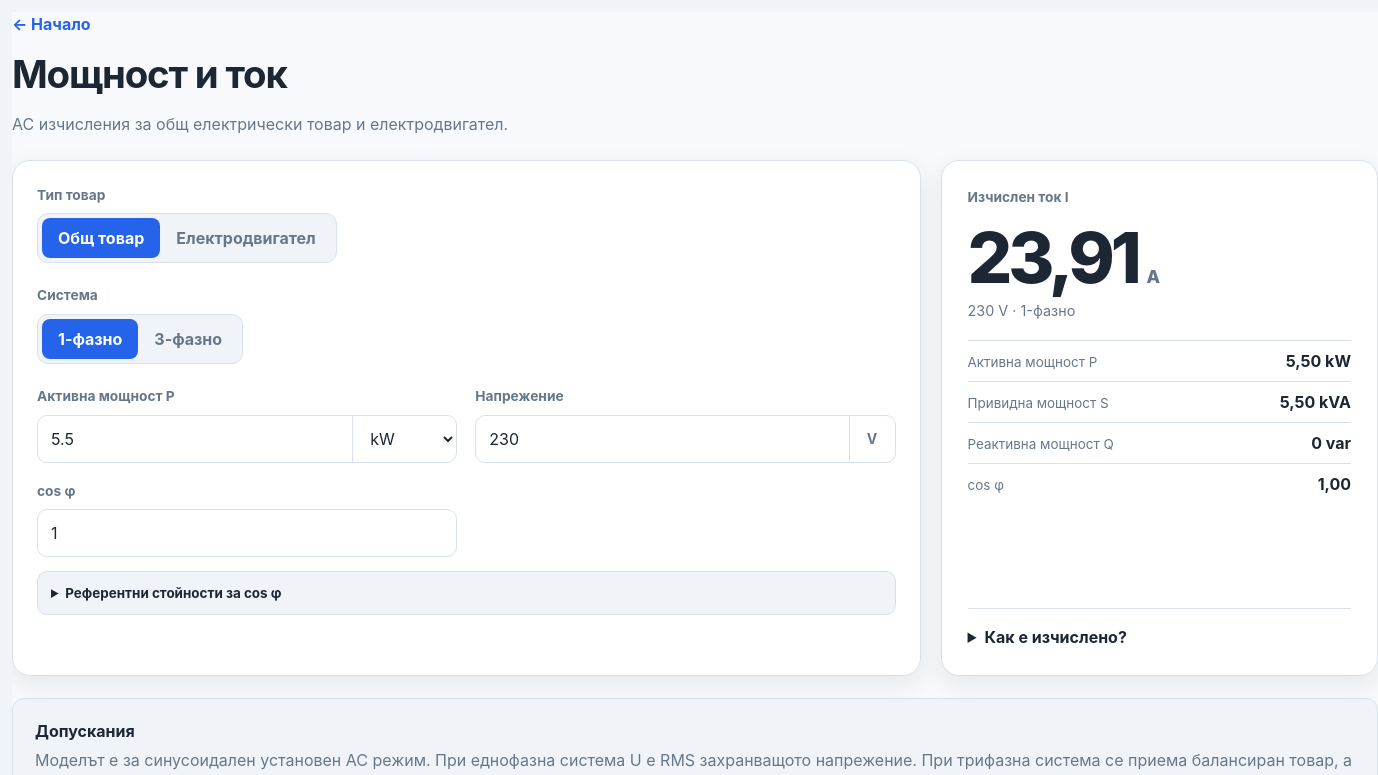
Test: PowerCurrentCalculator › shows distinct motor powers and expected derived results
Click the button "Електродвигател" at (246, 238), box [160,218,332,258]
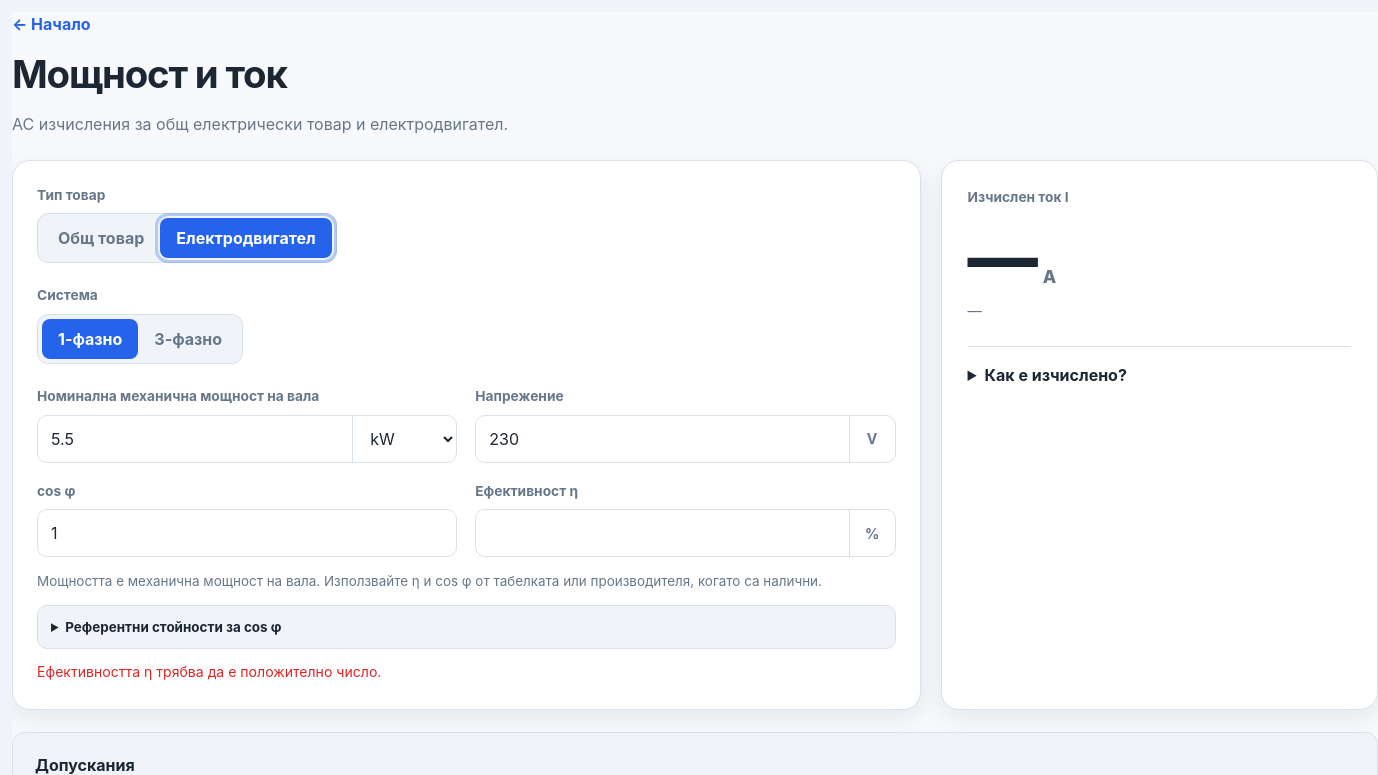
Replace the text in the field labelled "Номинална механична мощност на вала" with "7.5" at (195, 438), box [38,416,352,462]
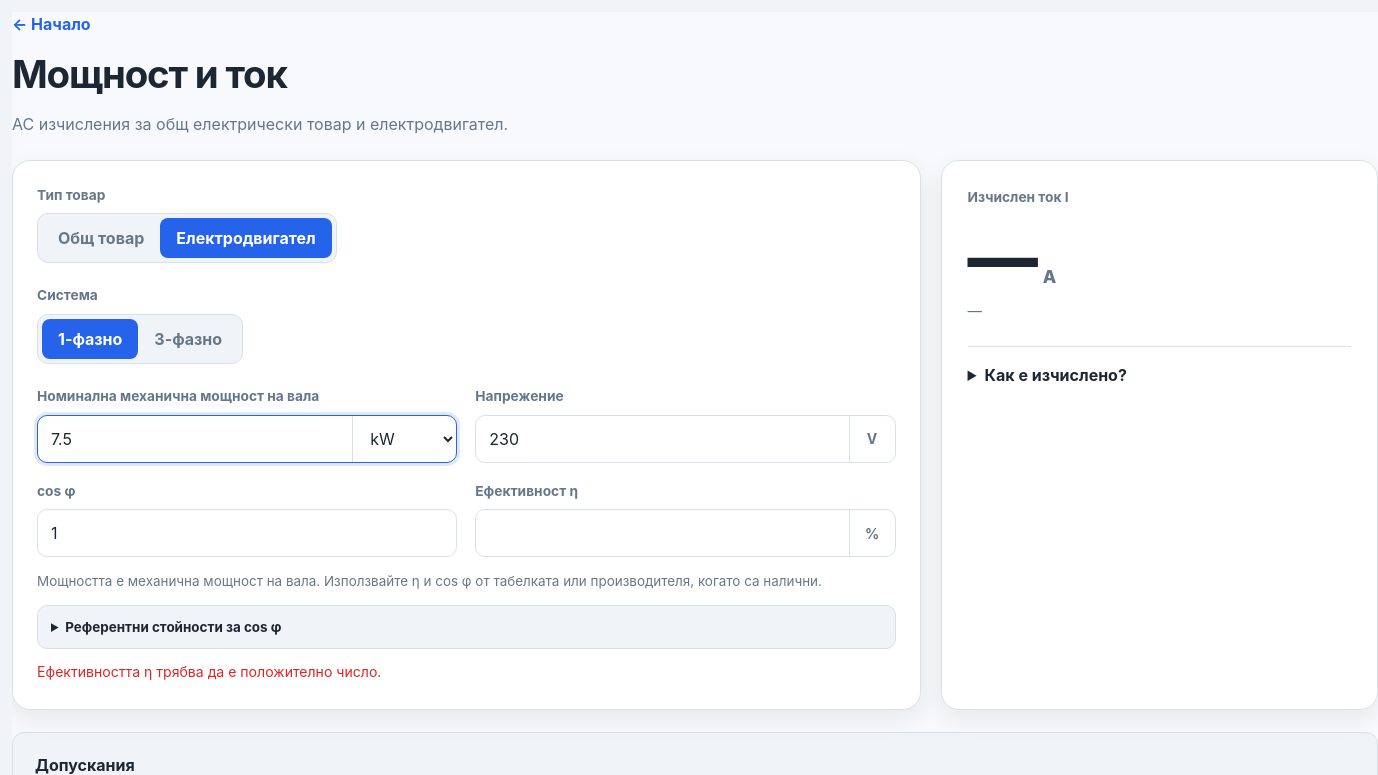
Type "90" into the field labelled "Ефективност η %" at (662, 533), box [476,510,849,556]
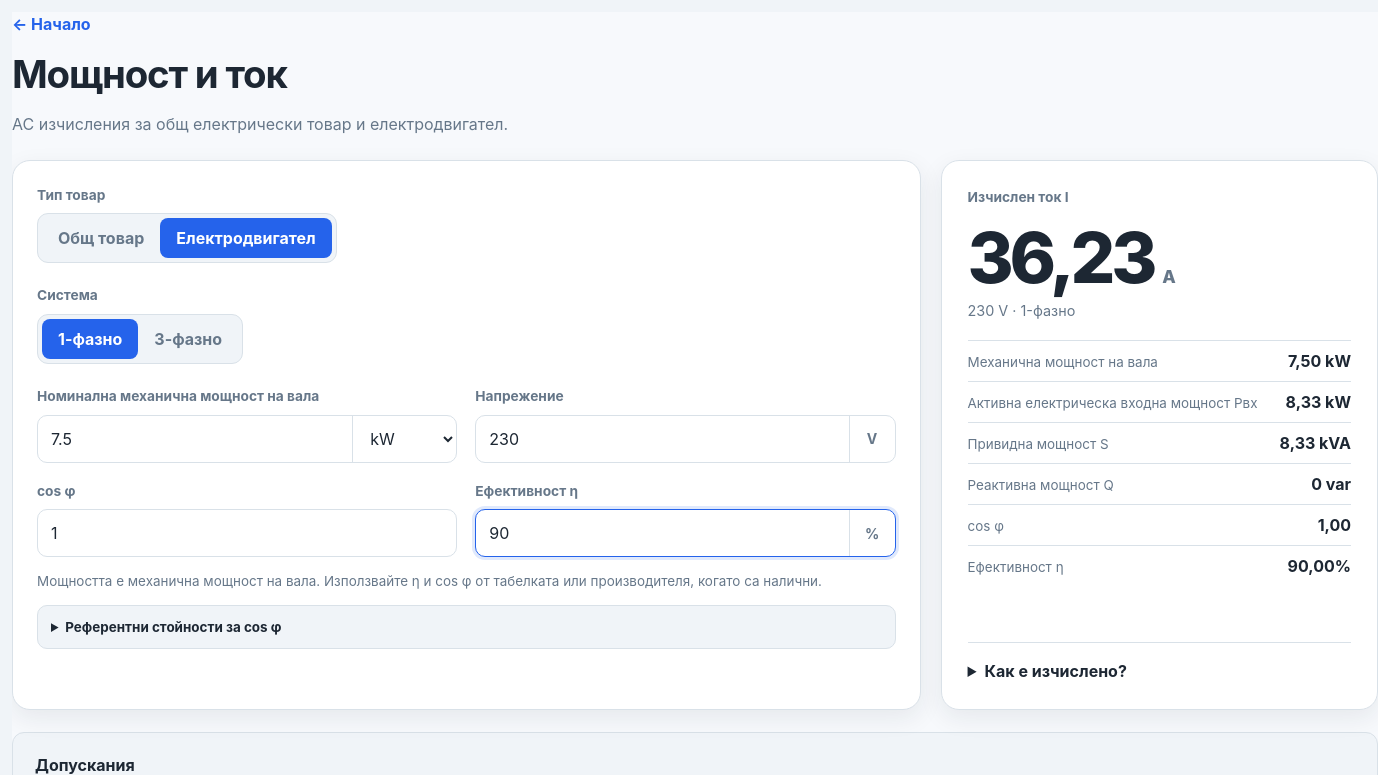
Replace the text in the field labelled "cos φ" with "0.85" at (247, 533), box [38,510,456,556]
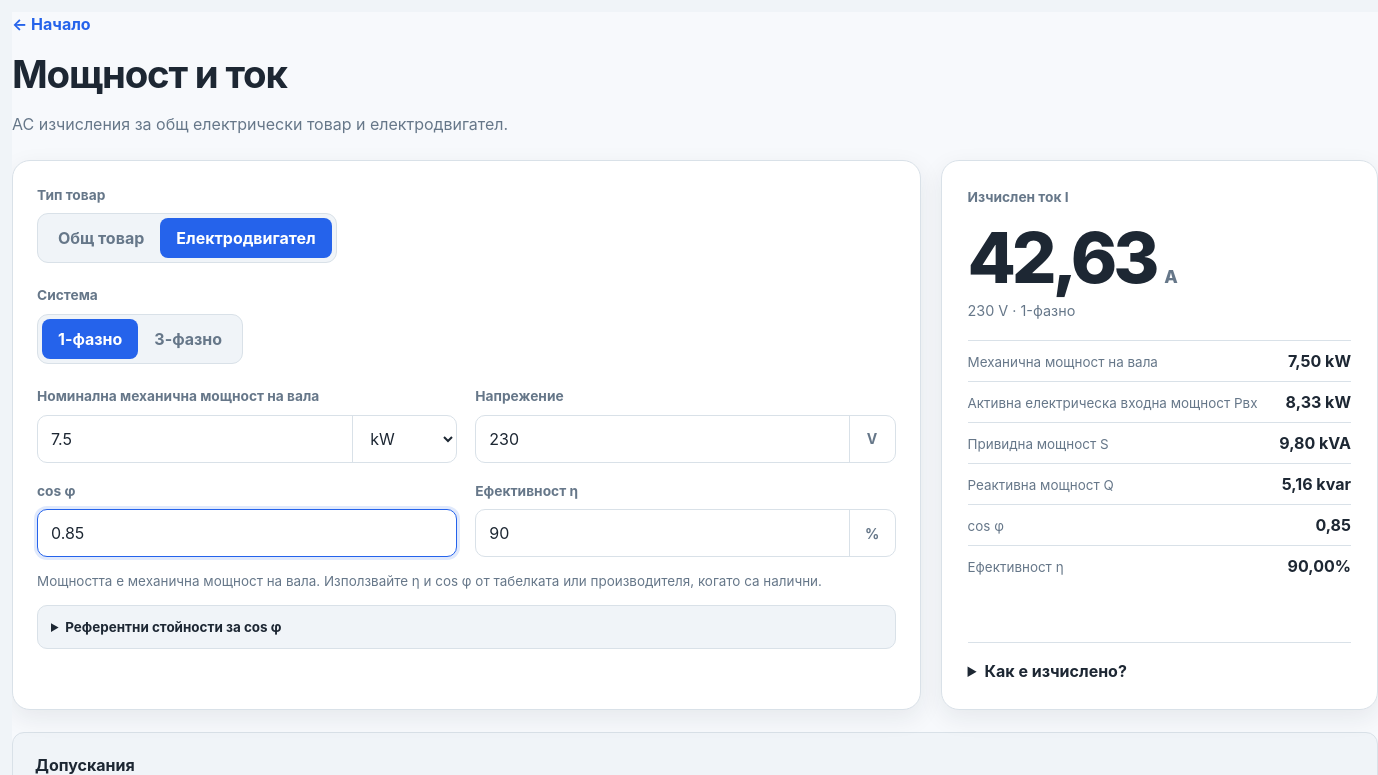
Click the button "3-фазно" at (188, 339), box [138,319,238,359]
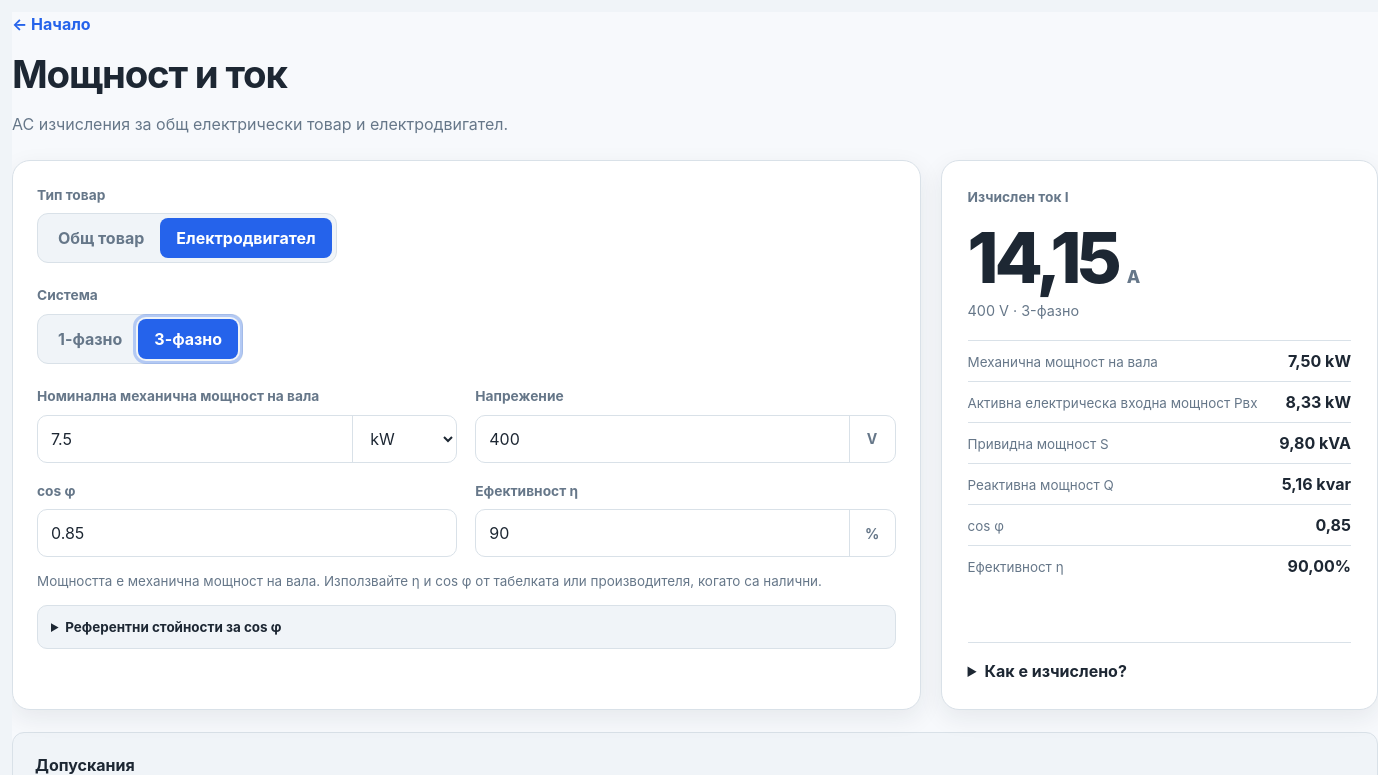
Check: the text "7,50 kW" is shown, box [1288,349,1351,373]
Check: the text "8,33 kW" is shown, box [1286,390,1351,414]
Check: the text "14,15" is shown, box [968,225,1118,292]
